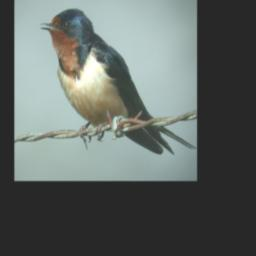Swallow: (39, 8, 197, 155)
